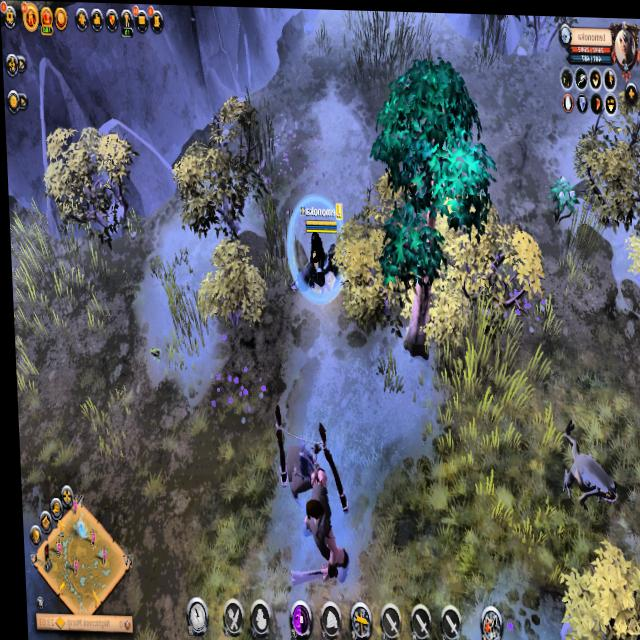fiber tier 3: (543, 168, 578, 225)
wood tier 3: (369, 53, 499, 290)
